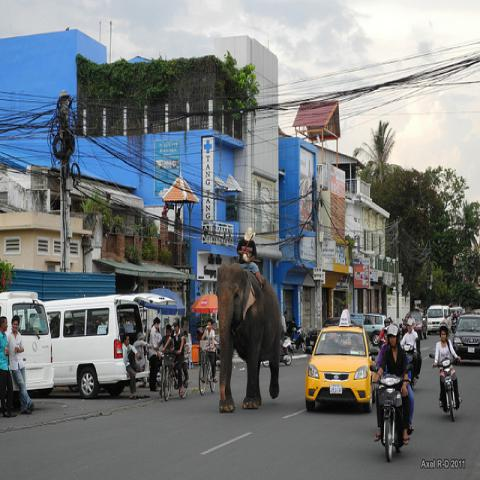car: (43, 296, 148, 398), (304, 310, 378, 411), (453, 315, 480, 360), (362, 312, 386, 345), (402, 311, 428, 339), (427, 305, 449, 334), (444, 305, 453, 334), (451, 309, 461, 334), (473, 308, 479, 315)
motorcycle: (369, 363, 414, 463), (428, 353, 460, 422), (262, 344, 294, 368), (400, 337, 420, 364), (377, 336, 385, 349)
truck: (46, 301, 142, 396), (1, 291, 54, 390), (427, 305, 451, 336)
